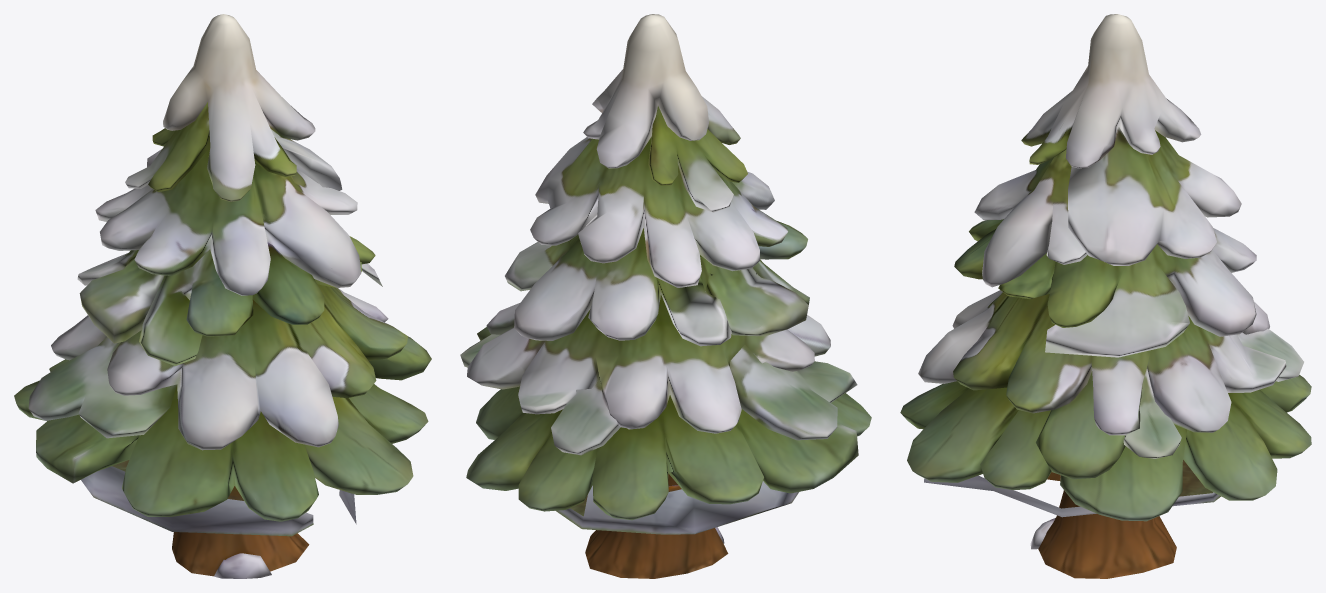
File: Forest-pine.glb
3 renders of one model, left to right at view 1: azimuth 30°, elevation 25°; view 2: azimuth 150°, elevation 25°; view 3: azimuth 270°, elevation 25°, orthographic. The views are drawn at different scales.
Parts seen in each view (by area): view 1: geometry_0; view 2: geometry_0; view 3: geometry_0.
Part boxes in pixels (x1,y1,x2,y2): geometry_0: (14, 14, 431, 578); geometry_0: (460, 14, 871, 578); geometry_0: (900, 14, 1311, 578).
Bounding box in the file's own units: 0.727 × 1 × 0.7.
1 material, 1 textured.
